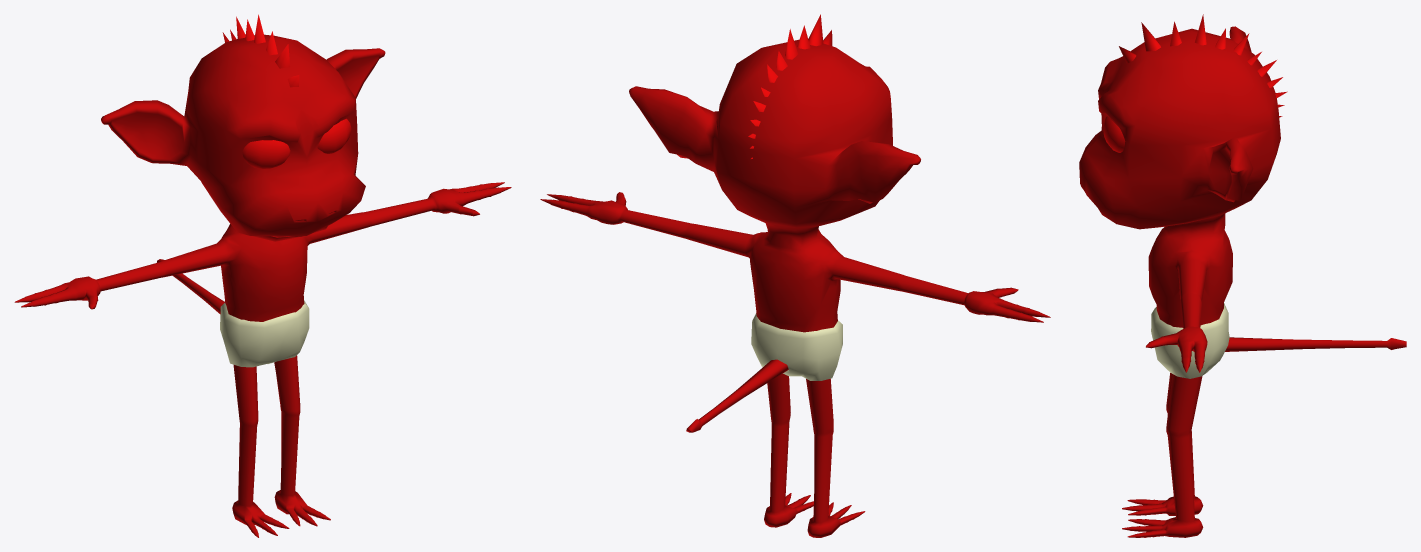
The model's file is Rangitoto.fbx.
The picture shows the model from 3 angles, left to right: view 1: azimuth 30°, elevation 25°; view 2: azimuth 150°, elevation 25°; view 3: azimuth 270°, elevation 25°; orthographic projection. The views are drawn at different scales.
Visible parts, largest first — view 1: polySurface26, polySurface9, polySurface11, polySurface12; view 2: polySurface26, polySurface9; view 3: polySurface26, polySurface9, polySurface12.
Boxes of the visible parts, x1,y1,x2,y2 form: polySurface26: (14, 34, 511, 537); polySurface9: (220, 300, 309, 367); polySurface11: (242, 140, 290, 168); polySurface12: (317, 118, 351, 153); polySurface26: (540, 39, 1050, 537); polySurface9: (751, 313, 842, 380); polySurface26: (1079, 26, 1406, 537); polySurface9: (1151, 303, 1229, 378); polySurface12: (1103, 116, 1125, 152).
Bounding box in the file's own units: 2.19 × 2.09 × 1.22.
